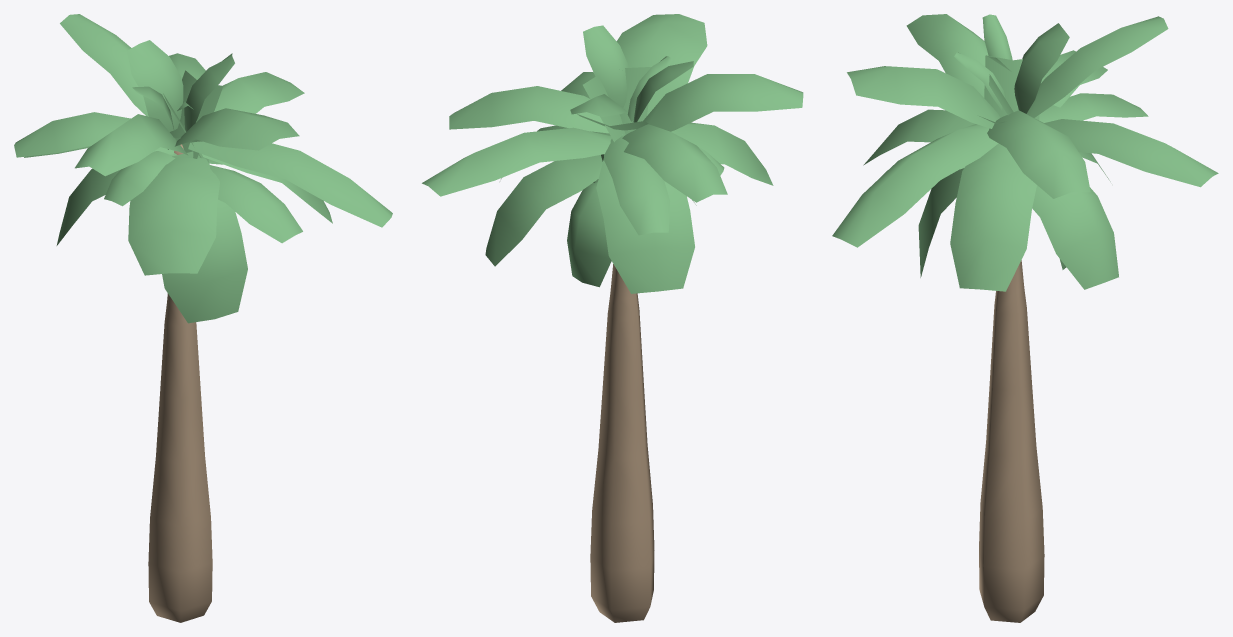
Rendered from tree_palm.glb.
3 views of the same model, side by side, from view 1: azimuth 30°, elevation 25°; view 2: azimuth 150°, elevation 25°; view 3: azimuth 270°, elevation 25° (orthographic). The views are drawn at different scales.
Parts seen in each view (by area): view 1: Palm1_VAR2; view 2: Palm1_VAR2; view 3: Palm1_VAR2.
Boxes of the visible parts, x1,y1,x2,y2 form: Palm1_VAR2: (14,14,392,622); Palm1_VAR2: (422,14,803,622); Palm1_VAR2: (832,14,1218,622).
Size of the model in its own units: 2.76 by 5.12 by 3.11.
